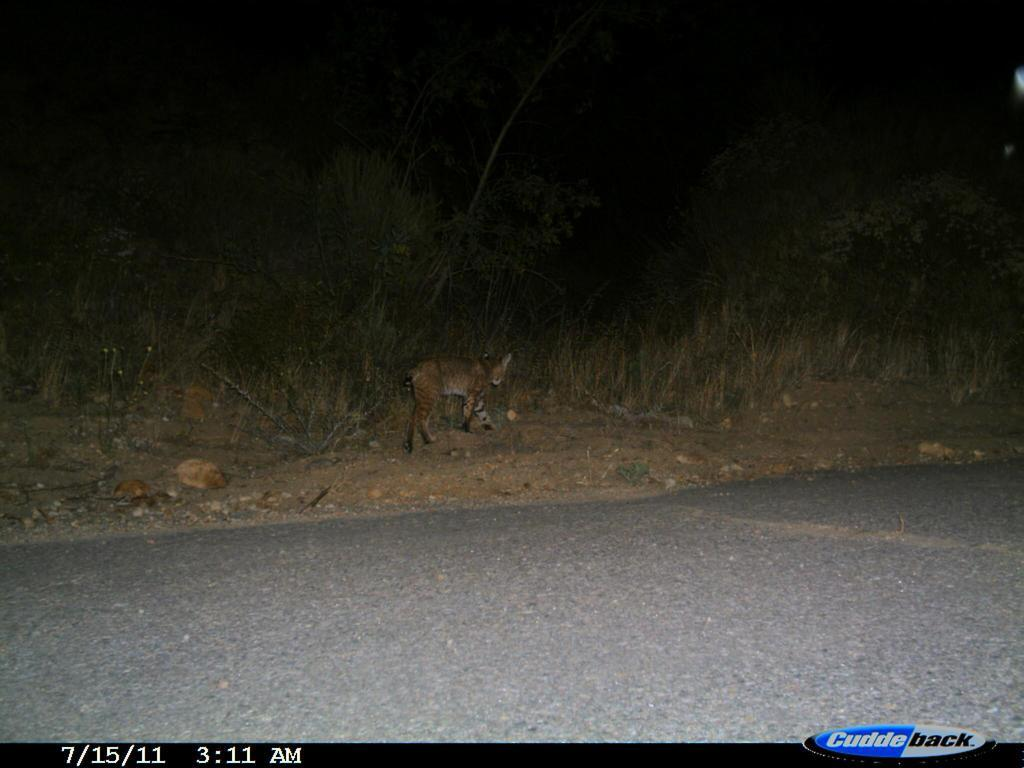bobcat: (400, 348, 514, 454)
